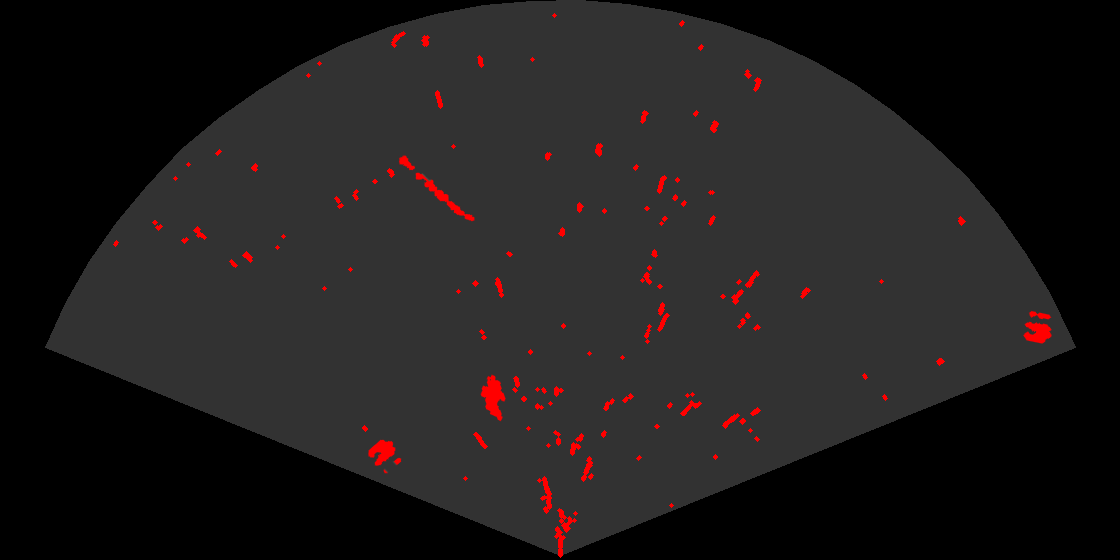AUV: (479, 373, 507, 423)
ball: (367, 438, 403, 475), (1022, 309, 1053, 345)
chain: (397, 154, 476, 223)
